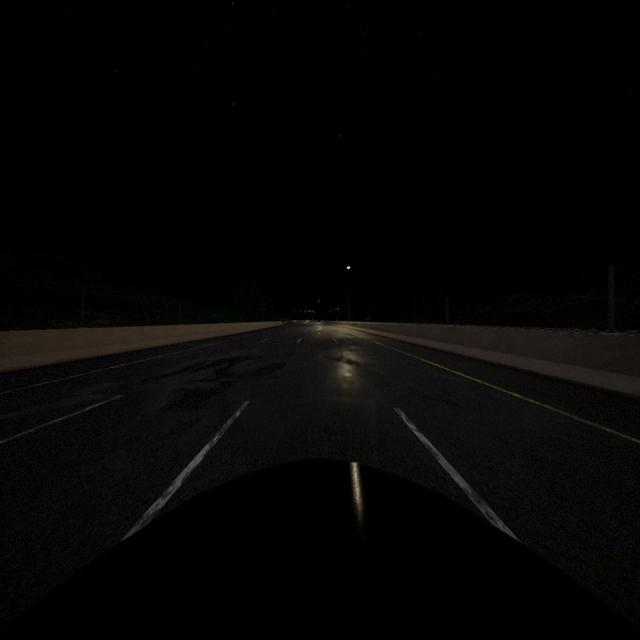Vehicle: (0, 462, 640, 640)
